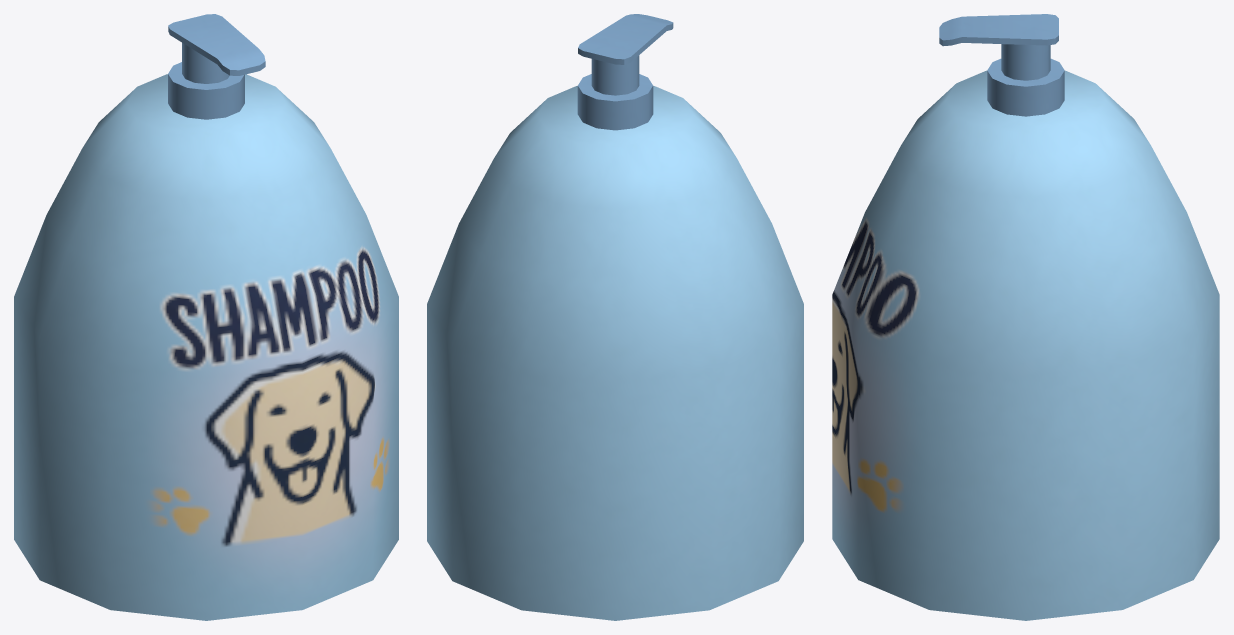
The model's file is shampoo_2.fbx.
3 renders of one model, left to right at view 1: azimuth 30°, elevation 25°; view 2: azimuth 150°, elevation 25°; view 3: azimuth 270°, elevation 25°, orthographic. The views are drawn at different scales.
Visible parts, largest first — view 1: shampoo_2_part_3, shampoo_2_part_2, shampoo_2_part_4, shampoo_2_part_1; view 2: shampoo_2_part_3, shampoo_2_part_4, shampoo_2_part_2, shampoo_2_part_1; view 3: shampoo_2_part_3, shampoo_2_part_2, shampoo_2_part_4, shampoo_2_part_1.
Boxes of the visible parts, x1,y1,x2,y2 form: shampoo_2_part_3: (14,74,398,620); shampoo_2_part_2: (168,14,265,75); shampoo_2_part_4: (168,62,244,119); shampoo_2_part_1: (182,43,229,83); shampoo_2_part_3: (427,86,803,620); shampoo_2_part_4: (577,74,653,130); shampoo_2_part_2: (578,14,673,64); shampoo_2_part_1: (591,55,639,95); shampoo_2_part_3: (832,70,1219,620); shampoo_2_part_2: (939,14,1058,46); shampoo_2_part_4: (987,58,1064,116); shampoo_2_part_1: (1001,44,1050,80).
Size of the model in its own units: 29.08 by 42.43 by 29.08.
1 material, 1 textured.
